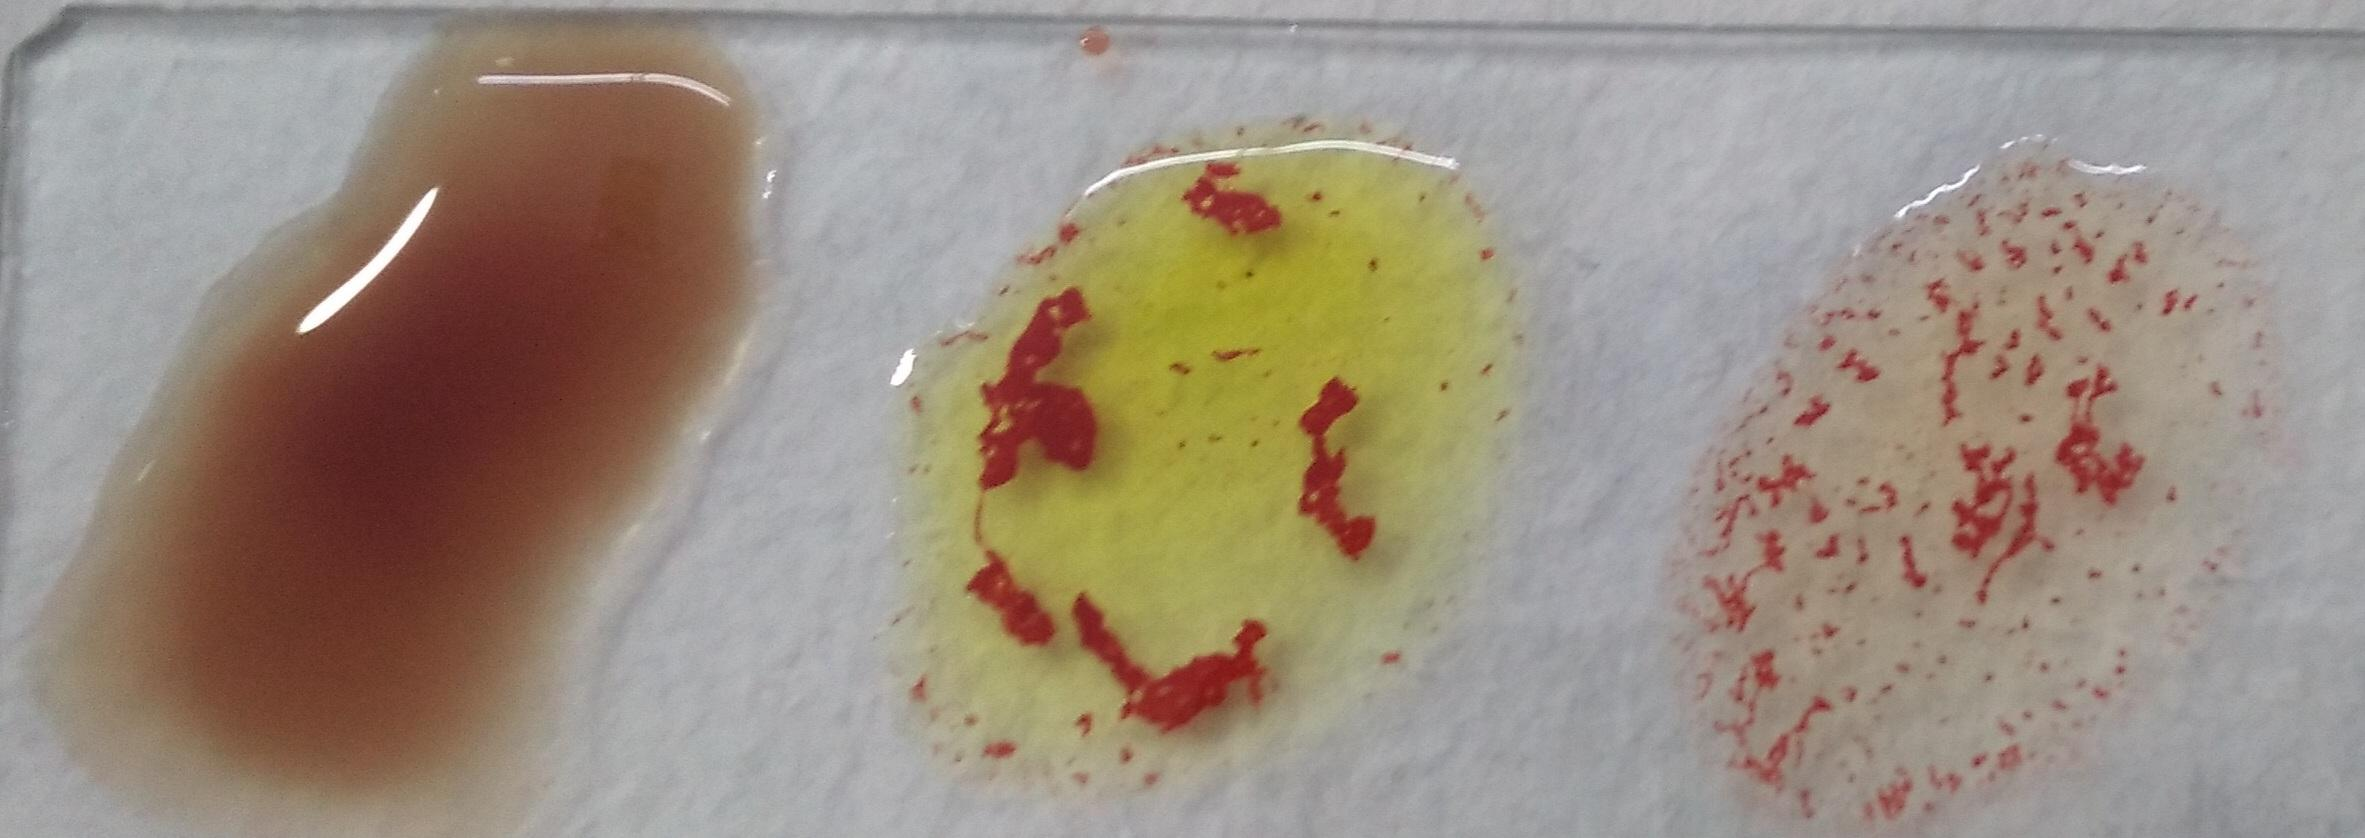B: (934, 116, 1520, 794)
D: (1712, 160, 2284, 827)
